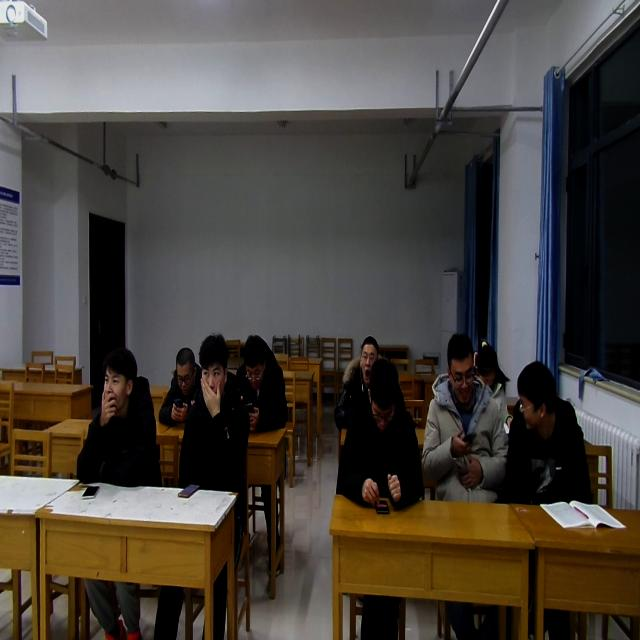bow: (236, 334, 290, 433), (158, 346, 204, 428)
down: (364, 356, 399, 436), (443, 329, 478, 409), (237, 329, 269, 389), (473, 334, 501, 394), (172, 342, 198, 394)
lookup: (99, 342, 139, 409), (195, 326, 227, 402), (355, 329, 379, 386)
sit: (423, 332, 511, 504), (336, 354, 424, 508), (74, 342, 162, 489), (504, 359, 592, 503), (175, 331, 251, 494), (334, 332, 382, 430), (474, 338, 514, 438)
